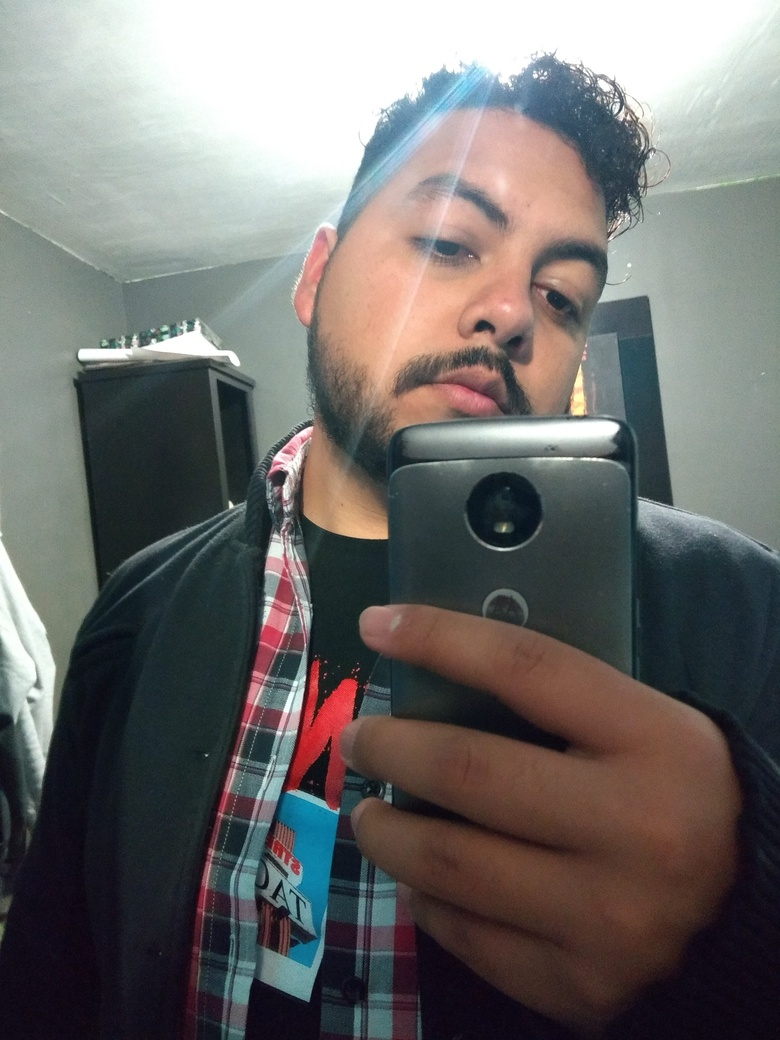Yoshi: (274, 31, 689, 487)
